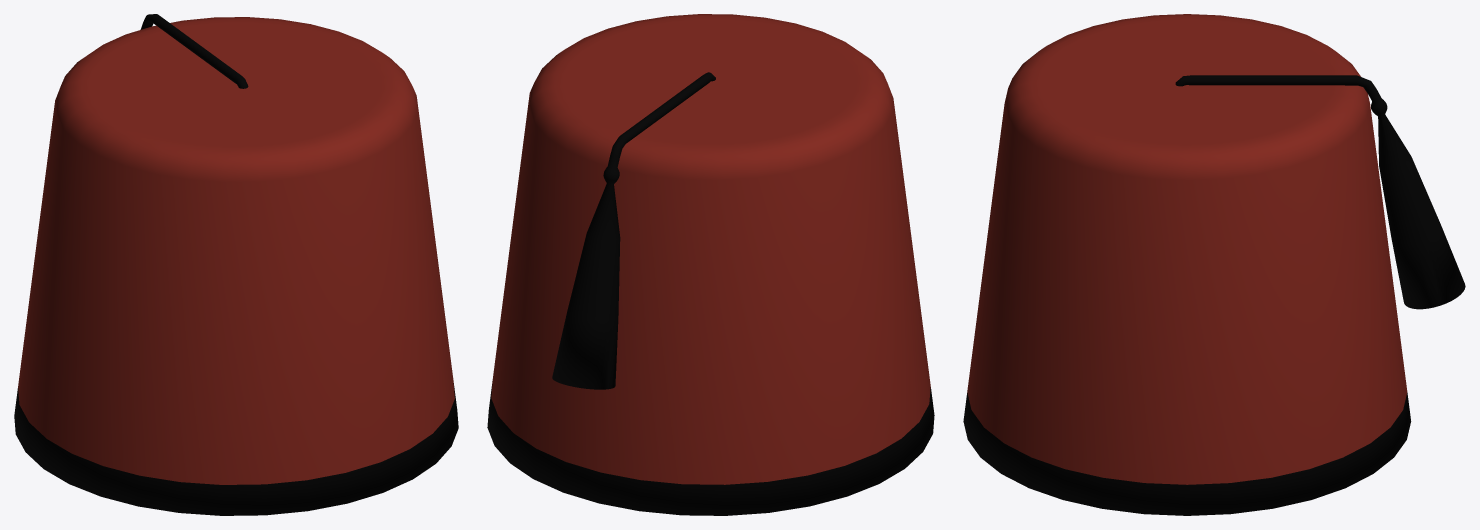
The model's file is Fez.fbx.
3 renders of one model, left to right at view 1: azimuth 30°, elevation 25°; view 2: azimuth 150°, elevation 25°; view 3: azimuth 270°, elevation 25°, orthographic.
Visible parts, largest first — view 1: Cylinder, Cylinder.001; view 2: Cylinder, Cylinder.001; view 3: Cylinder, Cylinder.001.
Boxes of the visible parts, x1,y1,x2,y2 form: Cylinder: (14,17,458,515); Cylinder.001: (140,14,248,88); Cylinder: (487,14,934,515); Cylinder.001: (552,72,715,389); Cylinder: (963,14,1411,515); Cylinder.001: (1175,75,1465,309).
Size of the model in its own units: 200 by 171 by 224.
